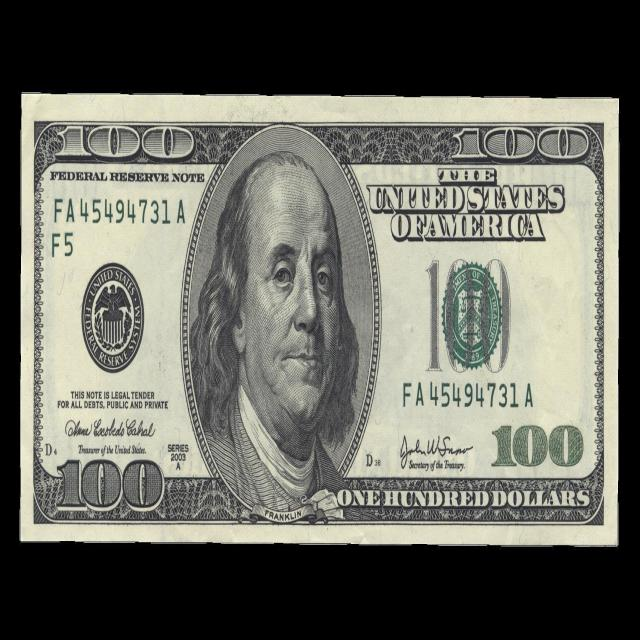100-Front: (20, 95, 617, 543)
